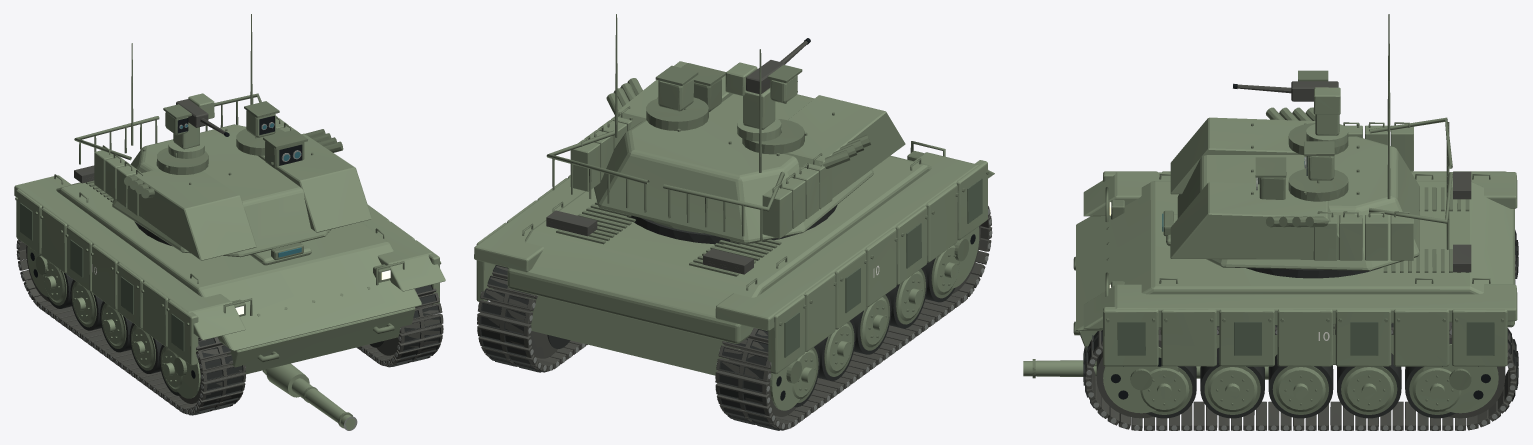
The model's file is japan.glb.
3 renders of one model, left to right at view 1: azimuth 30°, elevation 25°; view 2: azimuth 150°, elevation 25°; view 3: azimuth 270°, elevation 25°, orthographic. The views are drawn at different scales.
Visible parts, largest first — view 1: body_material_1, turret_material_2, tracks_material_1, turret_material_3, tracks_material_2, tracks_material_3, cannon_material_2, body_material_2, body_material_5, tracks_material_4, tracks_material_0, turret_material_4 (+1 smaller); view 2: body_material_1, turret_material_2, tracks_material_1, turret_material_3, tracks_material_2, tracks_material_3, body_material_2, body_material_5, tracks_material_4, body_material_0, turret_material_1, tracks_material_0 (+1 smaller); view 3: body_material_1, turret_material_2, tracks_material_3, tracks_material_1, turret_material_3, tracks_material_2, body_material_5, tracks_material_4, body_material_2, tracks_material_0, cannon_material_2, body_material_0 (+2 smaller).
Part boxes in pixels (x1,y1,x2,y2): body_material_1: [14, 175, 445, 374]; turret_material_2: [94, 93, 371, 260]; tracks_material_1: [16, 238, 443, 414]; turret_material_3: [74, 14, 343, 198]; tracks_material_2: [47, 272, 440, 415]; tracks_material_3: [27, 246, 200, 398]; cannon_material_2: [265, 363, 355, 429]; body_material_2: [15, 174, 441, 362]; body_material_5: [20, 203, 184, 351]; tracks_material_4: [35, 255, 186, 392]; tracks_material_0: [16, 243, 443, 413]; turret_material_4: [177, 115, 302, 165]; body_material_1: [474, 152, 994, 375]; turret_material_2: [570, 61, 905, 243]; tracks_material_1: [477, 206, 991, 429]; turret_material_3: [546, 14, 870, 240]; tracks_material_2: [480, 258, 955, 430]; tracks_material_3: [770, 226, 979, 410]; body_material_2: [522, 141, 989, 325]; body_material_5: [784, 178, 982, 357]; tracks_material_4: [786, 238, 968, 402]; body_material_0: [546, 210, 753, 274]; turret_material_1: [627, 205, 837, 244]; tracks_material_0: [477, 209, 992, 429]; body_material_1: [1076, 171, 1517, 366]; turret_material_2: [1170, 87, 1419, 270]; tracks_material_3: [1103, 344, 1498, 413]; tracks_material_1: [1085, 255, 1516, 430]; turret_material_3: [1251, 14, 1452, 249]; tracks_material_2: [1083, 230, 1518, 430]; body_material_5: [1117, 322, 1494, 355]; tracks_material_4: [1130, 366, 1471, 414]; body_material_2: [1073, 174, 1504, 335]; tracks_material_0: [1086, 264, 1515, 430]; cannon_material_2: [1023, 360, 1268, 379]; body_material_0: [1453, 171, 1471, 272].
Size of the model in its own units: 3.82 by 4.26 by 5.62.
